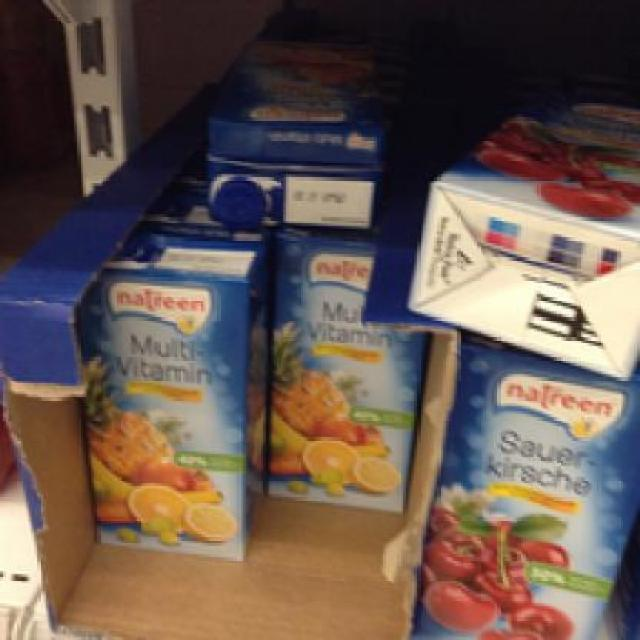Juice: (408, 77, 634, 377), (412, 346, 634, 637), (71, 234, 258, 560), (262, 220, 428, 509), (203, 17, 386, 230)
